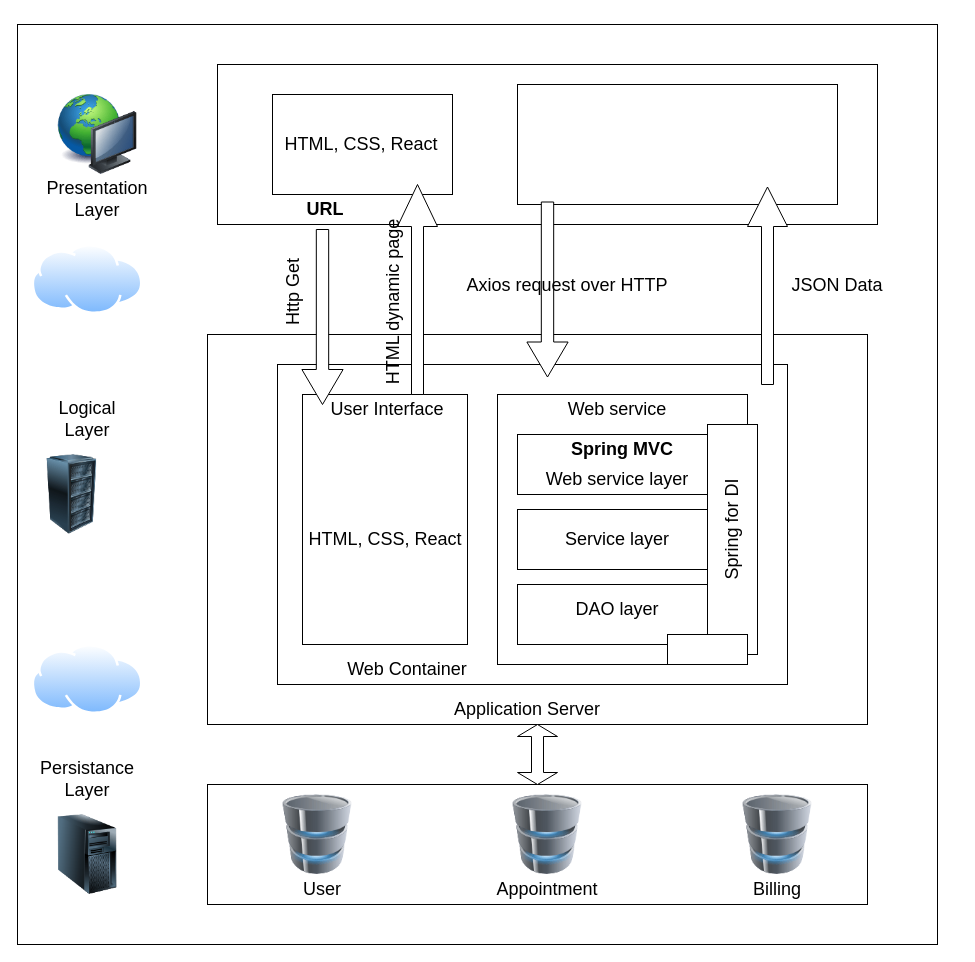
This 975x962 diagram has some shape labels left out. Each missing label, with the box of its shape:
Hibernate: (666, 634, 748, 664)
Single page dynamic HTML: (516, 84, 838, 204)
